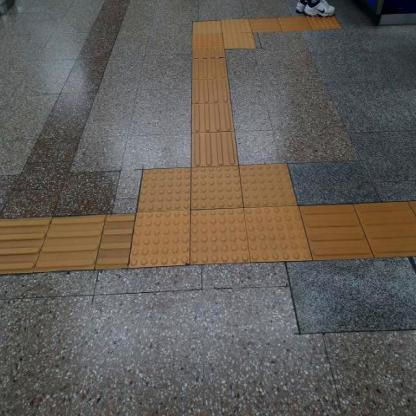podotacti: (108, 133, 338, 299), (0, 211, 133, 277), (314, 195, 416, 260), (180, 8, 274, 68), (192, 54, 233, 166), (256, 16, 347, 34)
